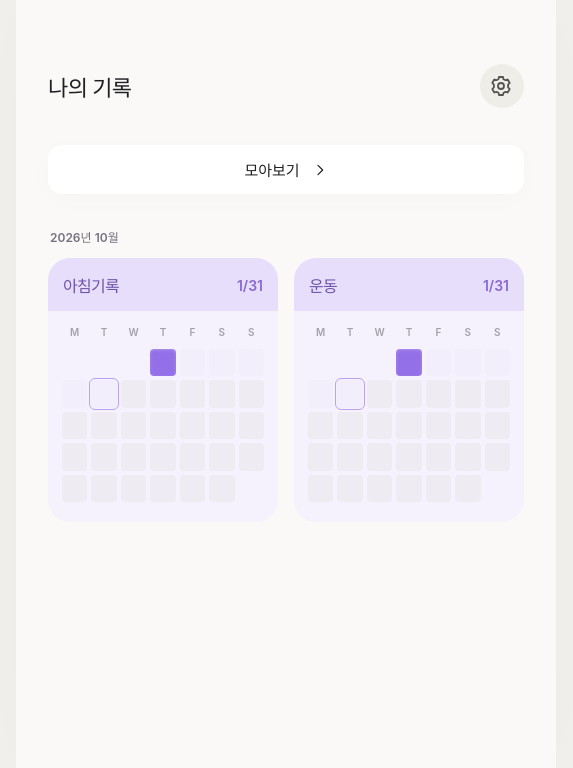
it: main screen with API › loads sorted categories, record counts and navigates back from a future screen
The width and height of the screenshot is (573, 768).
Expected: the link with aria-label "일 기록" shows "아침기록", [48,258,278,522]
Click the link "모아보기" at (286, 170), box [48,145,524,194]
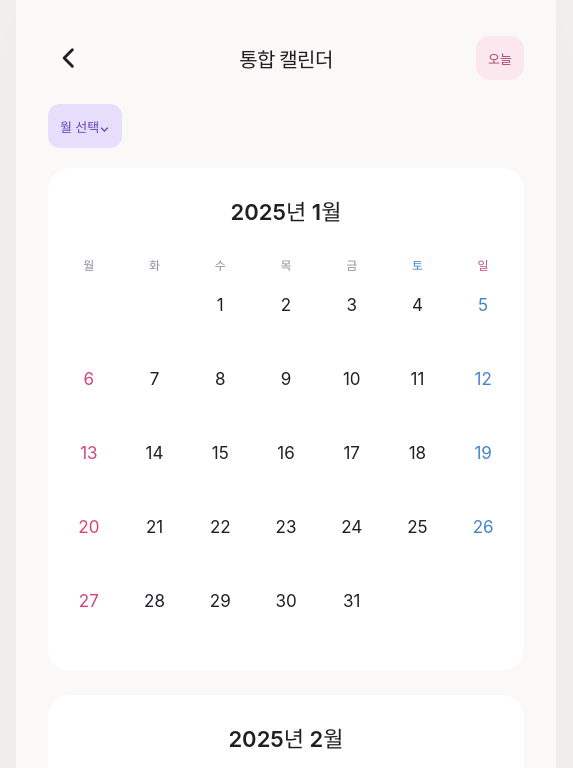
Expected: the heading "통합 캘린더" is shown, [239,48,333,72]
Click the link named "나의 기록으로 돌아가기" at (70, 58), box [56,44,84,72]
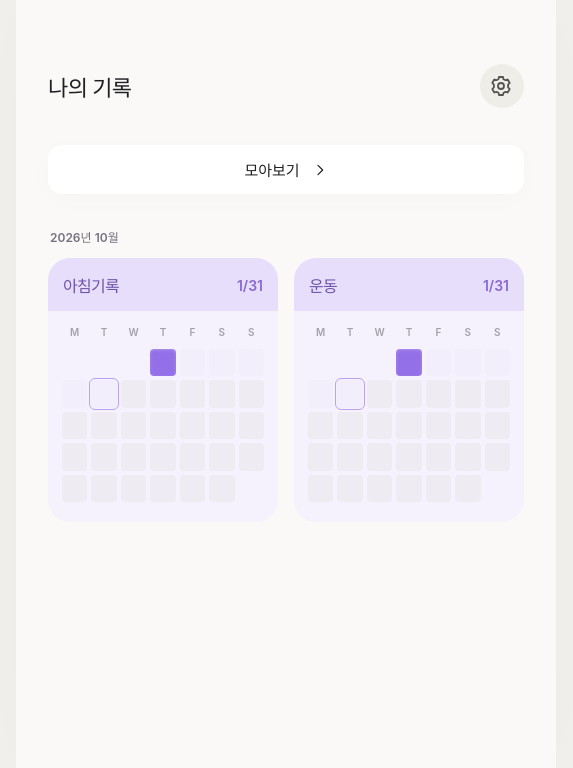
Expected: the heading "나의 기록" is shown, [48,70,132,102]
